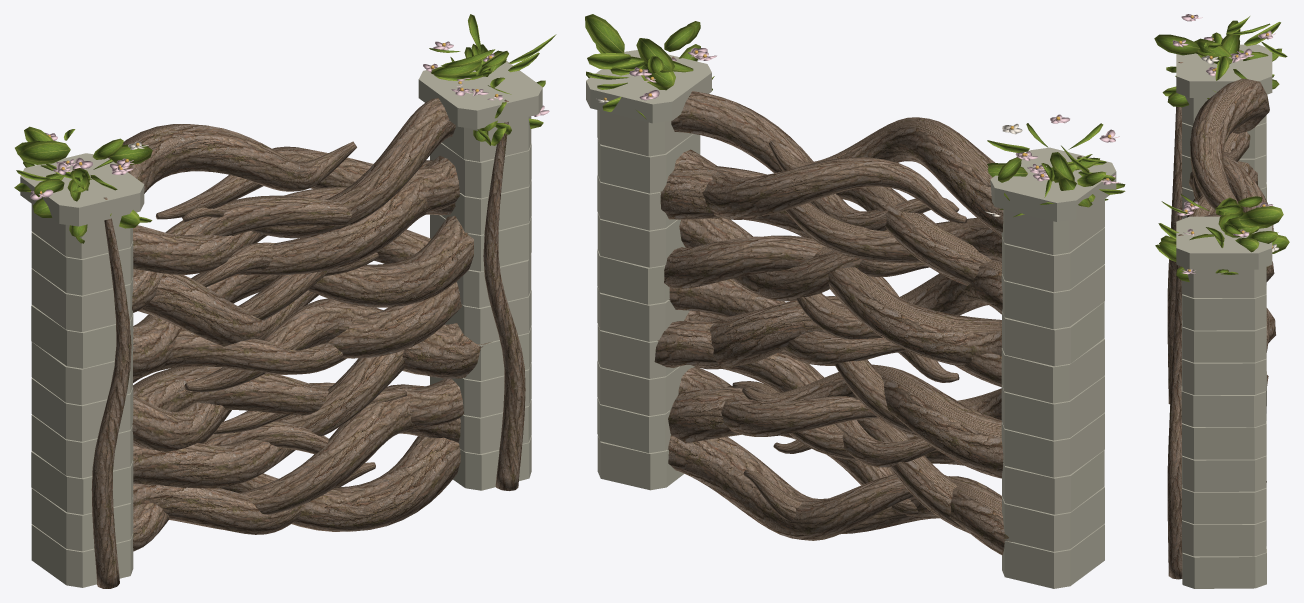
File: SpringGardenRetractingDoor.fbx
3 renders of one model, left to right at view 1: azimuth 30°, elevation 25°; view 2: azimuth 150°, elevation 25°; view 3: azimuth 270°, elevation 25°, orthographic. The views are drawn at different scales.
Parts seen in each view (by area): view 1: GardenDoor_RetractingRoots, GardenDoor_Frame; view 2: GardenDoor_RetractingRoots, GardenDoor_Frame; view 3: GardenDoor_Frame, GardenDoor_RetractingRoots.
Part boxes in pixels (bbox=[...]): GardenDoor_RetractingRoots: bbox=[108, 98, 491, 551]; GardenDoor_Frame: bbox=[14, 14, 556, 588]; GardenDoor_RetractingRoots: bbox=[654, 91, 1013, 555]; GardenDoor_Frame: bbox=[585, 14, 1125, 588]; GardenDoor_Frame: bbox=[1154, 14, 1289, 588]; GardenDoor_RetractingRoots: bbox=[1187, 78, 1275, 482].
Bounding box in the file's own units: 11.79 × 9.75 × 2.97.
Materials: 8 (4 with a texture image).
